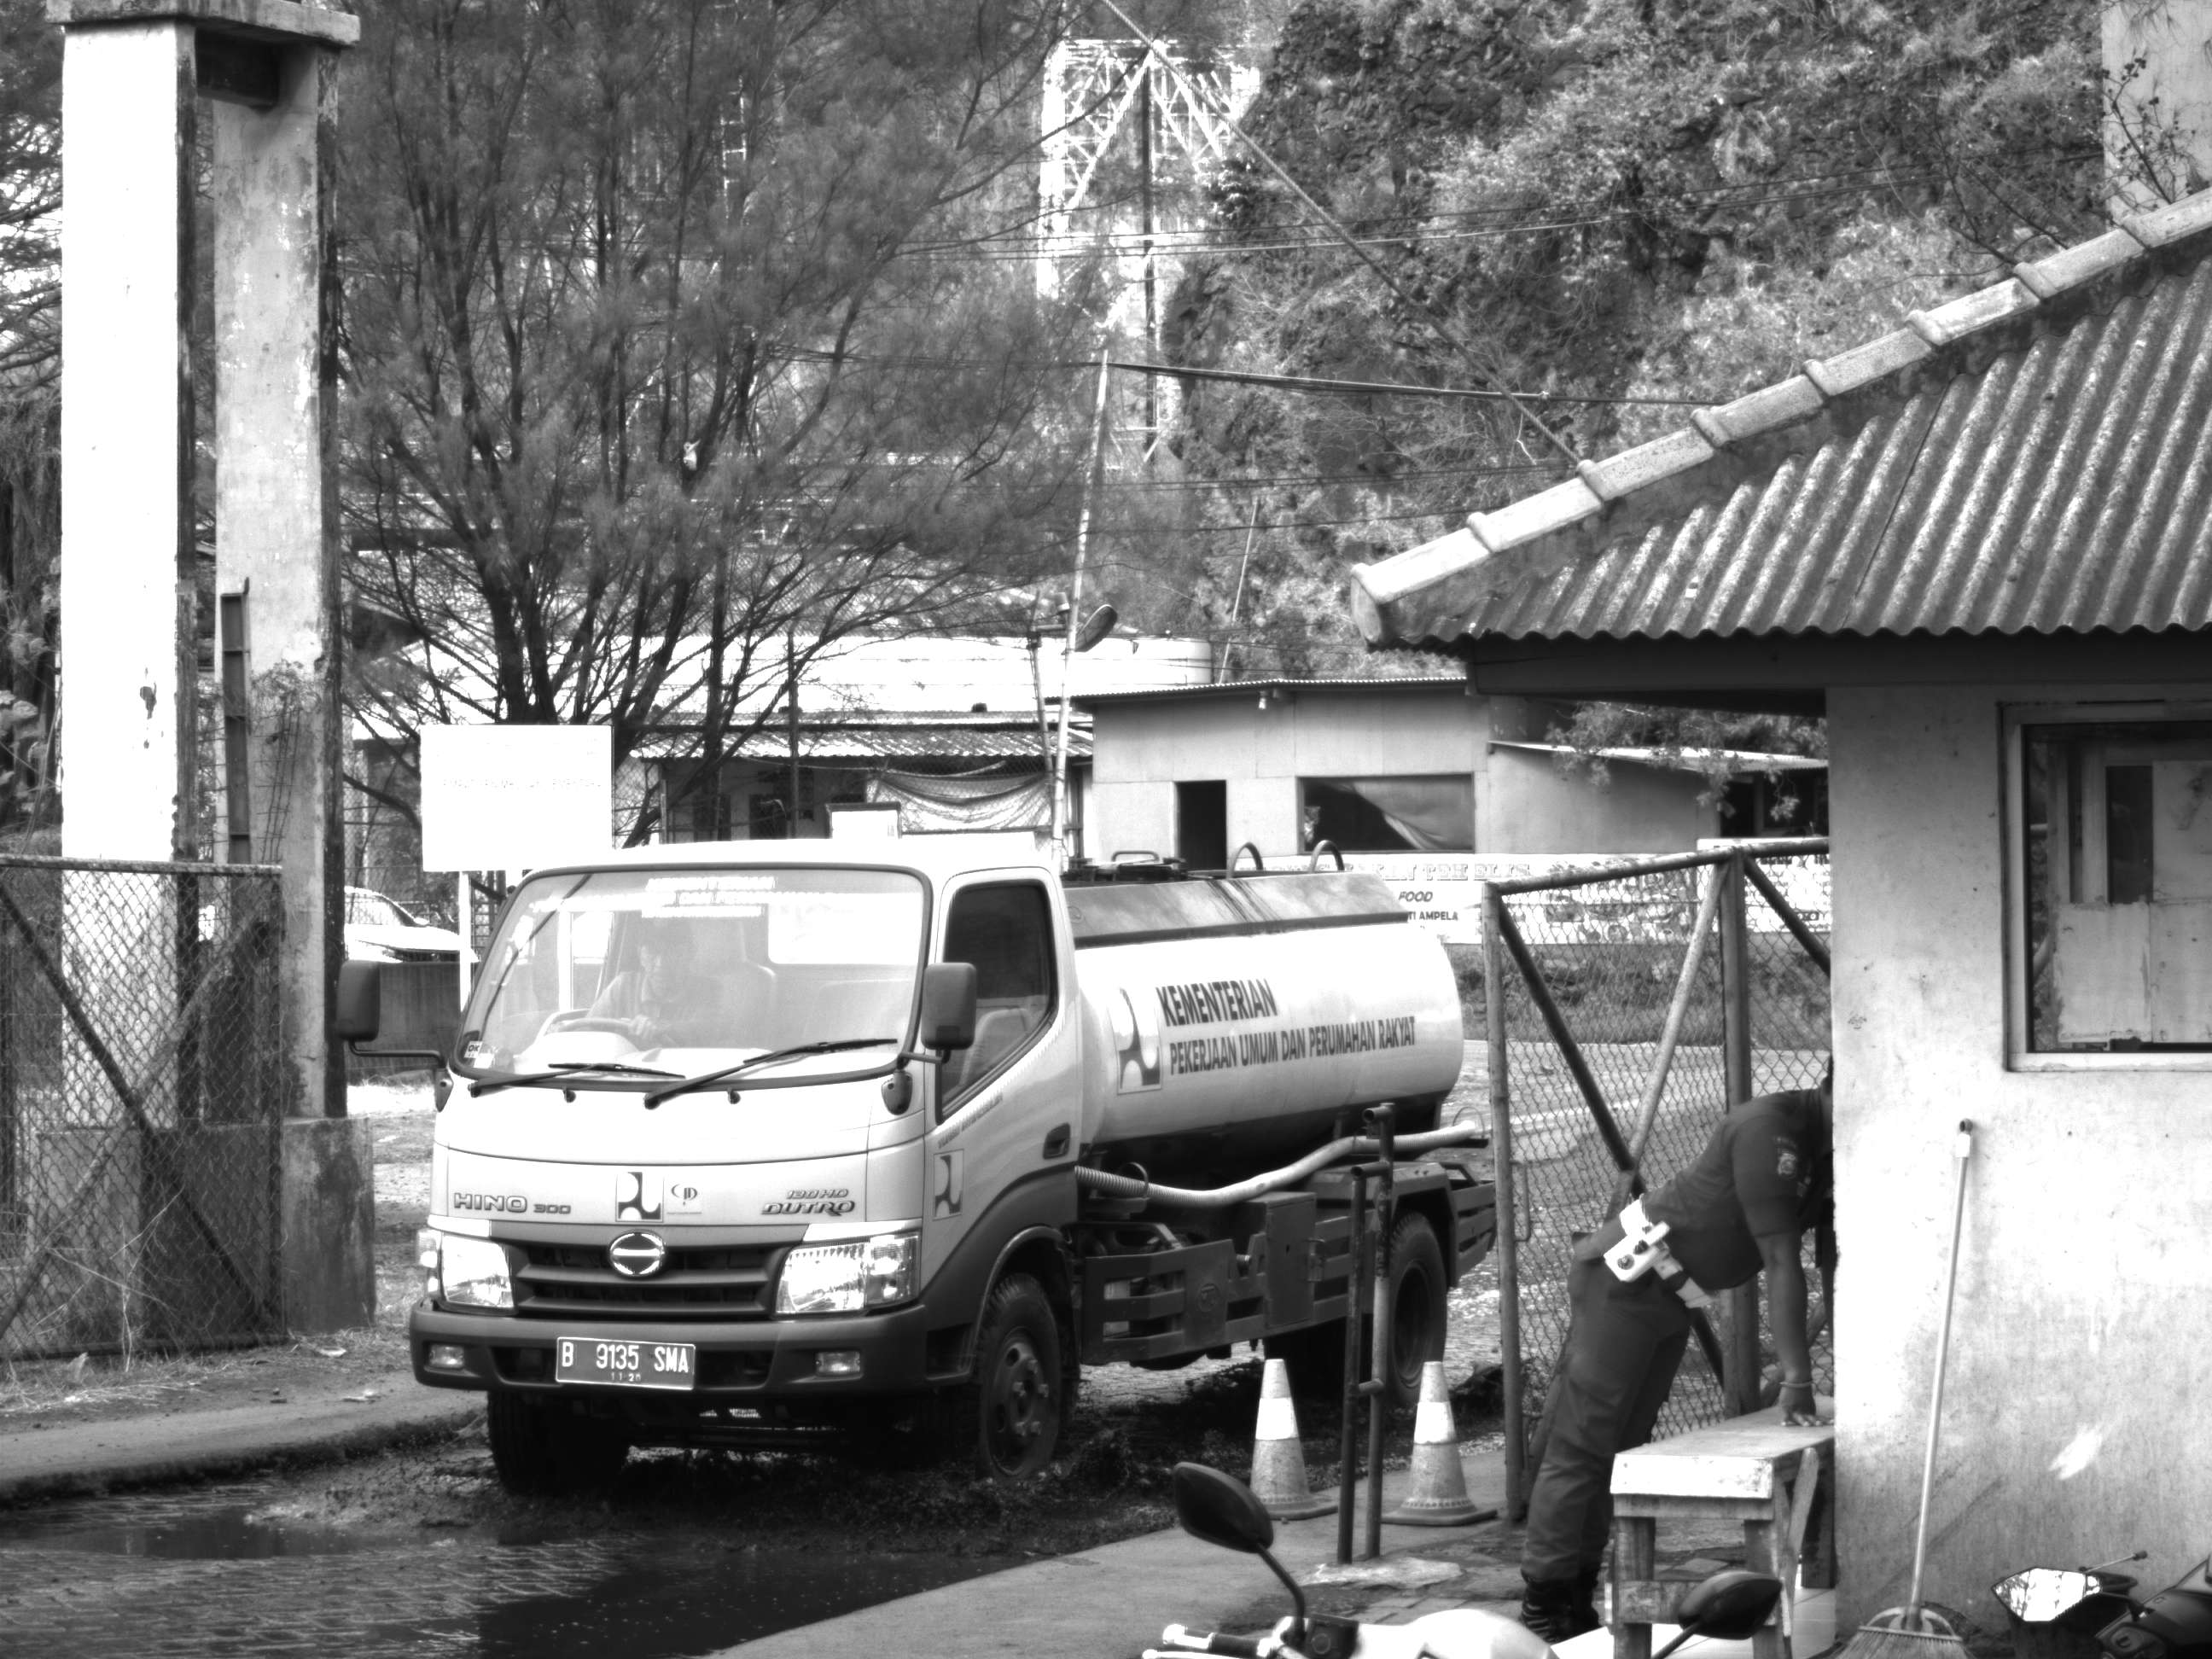day_truck_front: (410, 835, 1083, 1502)
plate: (555, 1336, 697, 1395)
